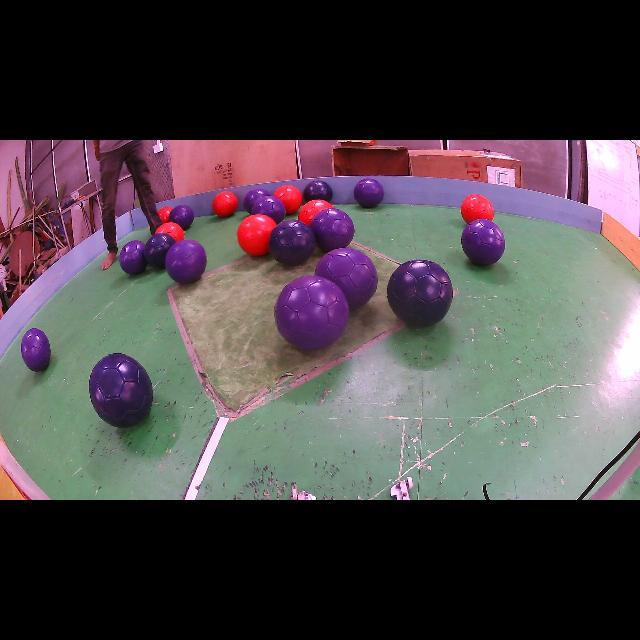B: (89, 354, 152, 428), (388, 260, 454, 326), (269, 220, 316, 266), (144, 232, 175, 268), (304, 180, 332, 201)
P: (275, 275, 349, 350), (315, 248, 378, 309), (461, 219, 505, 265), (310, 208, 355, 251), (165, 239, 206, 284), (21, 328, 51, 371), (119, 240, 148, 275), (251, 196, 286, 224), (354, 179, 384, 208), (244, 189, 270, 214), (169, 205, 194, 230)
R: (238, 214, 276, 255), (460, 194, 494, 223), (298, 199, 334, 225), (212, 191, 239, 217), (155, 222, 185, 241), (158, 206, 172, 222)
